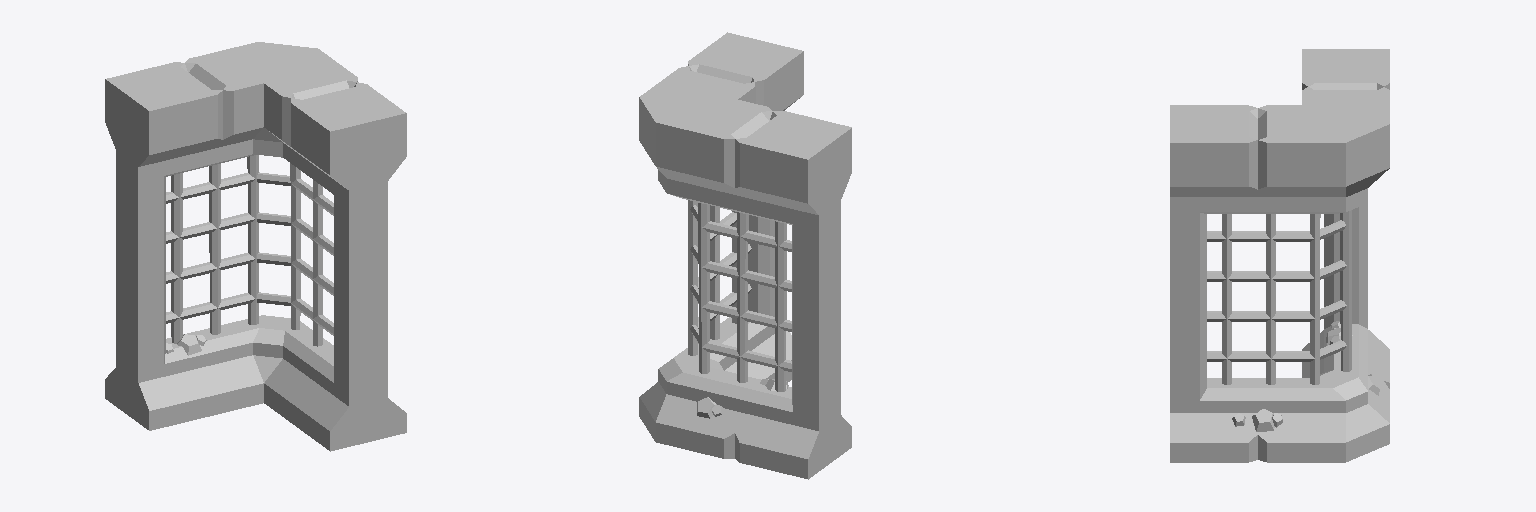
File: wall_corner_gated.obj
3 renders of one model, left to right at view 1: azimuth 30°, elevation 25°; view 2: azimuth 150°, elevation 25°; view 3: azimuth 270°, elevation 25°, orthographic.
Parts seen in each view (by area): view 1: wall_corner_gated_Cube.13127; view 2: wall_corner_gated_Cube.13127; view 3: wall_corner_gated_Cube.13127.
Boxes of the visible parts, box(x1,y1,x2,y2) form: wall_corner_gated_Cube.13127: box(105, 42, 406, 451); wall_corner_gated_Cube.13127: box(639, 32, 851, 479); wall_corner_gated_Cube.13127: box(1170, 49, 1389, 462).
Bounding box in the file's own units: 2.5 × 4 × 2.5.